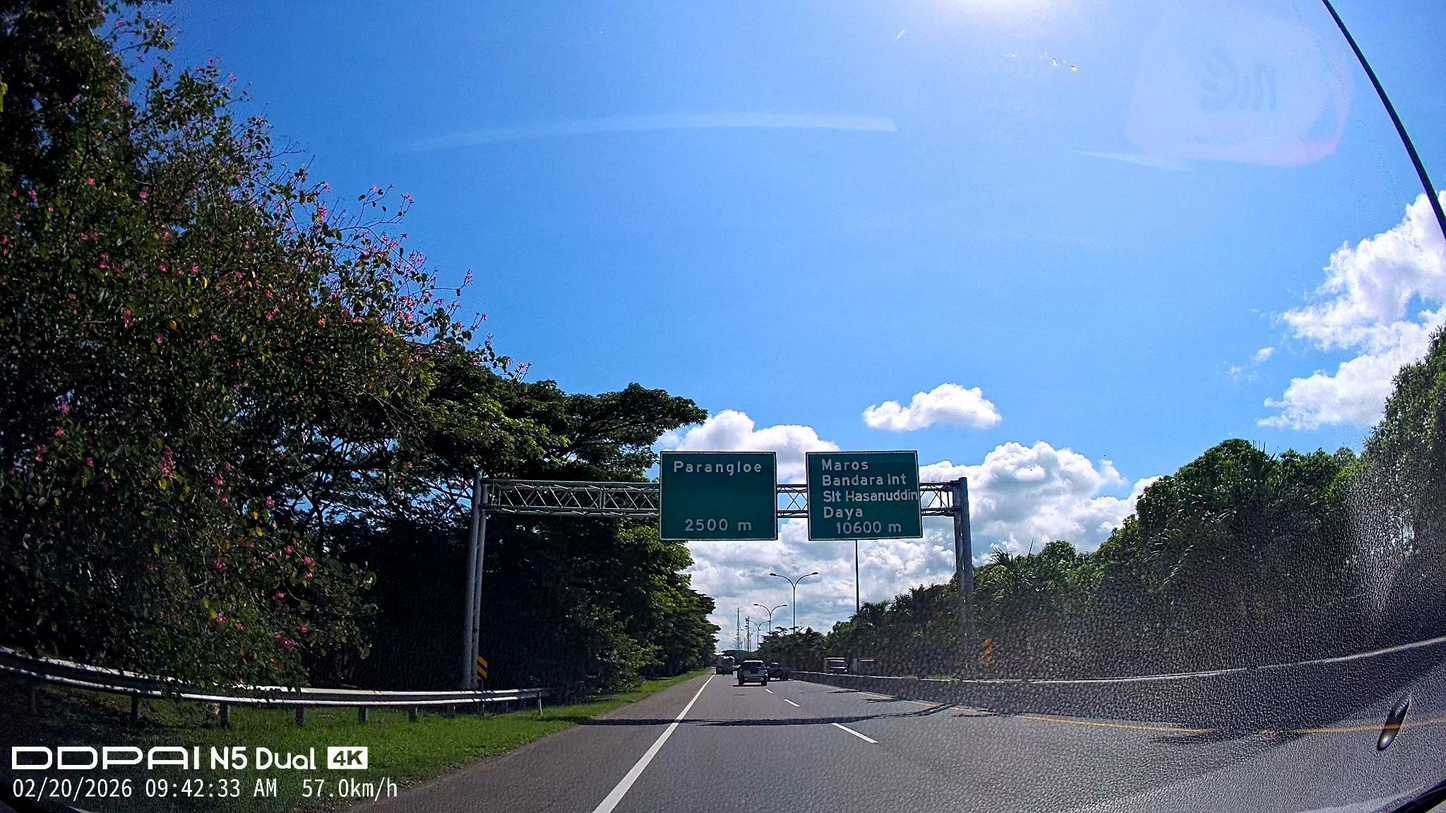rambu_teks: (806, 448, 923, 543), (659, 450, 778, 541)
